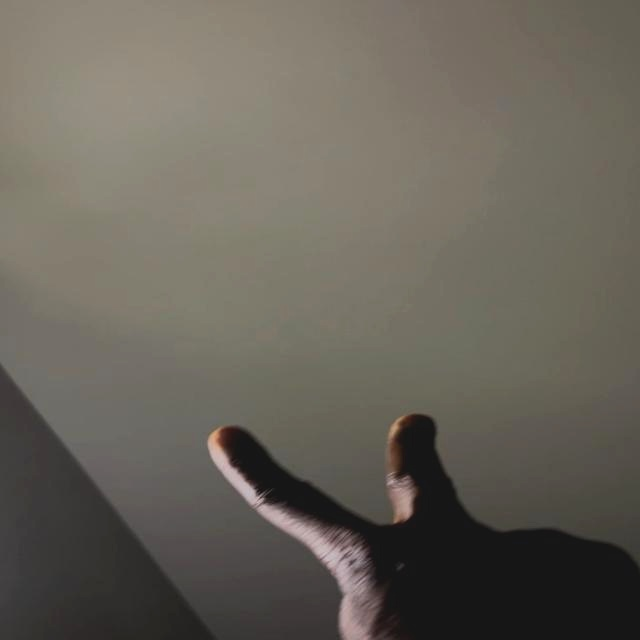Scissors: (204, 414, 640, 640)
